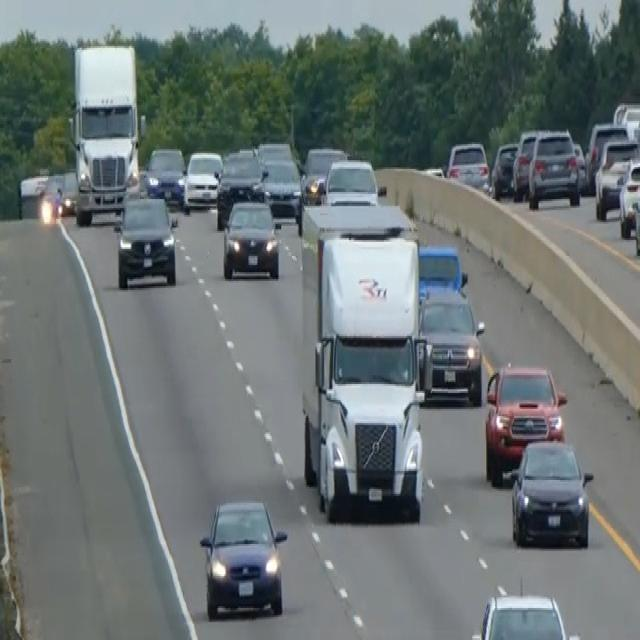bus: (68, 41, 141, 226)
car: (198, 496, 288, 620), (484, 361, 567, 485), (509, 436, 593, 548), (417, 283, 485, 405), (113, 192, 177, 288), (470, 590, 581, 638), (222, 197, 280, 279), (527, 128, 580, 208), (215, 148, 265, 228), (593, 135, 639, 221), (584, 119, 629, 192), (259, 154, 302, 226), (322, 154, 380, 204), (417, 242, 467, 300), (182, 148, 223, 212), (144, 144, 186, 204), (301, 146, 346, 202), (446, 139, 490, 190), (511, 128, 539, 199), (618, 153, 639, 236), (491, 140, 518, 198), (613, 100, 639, 142), (257, 138, 293, 164), (572, 139, 587, 192), (631, 174, 639, 258)
lorry: (300, 220, 430, 522)
